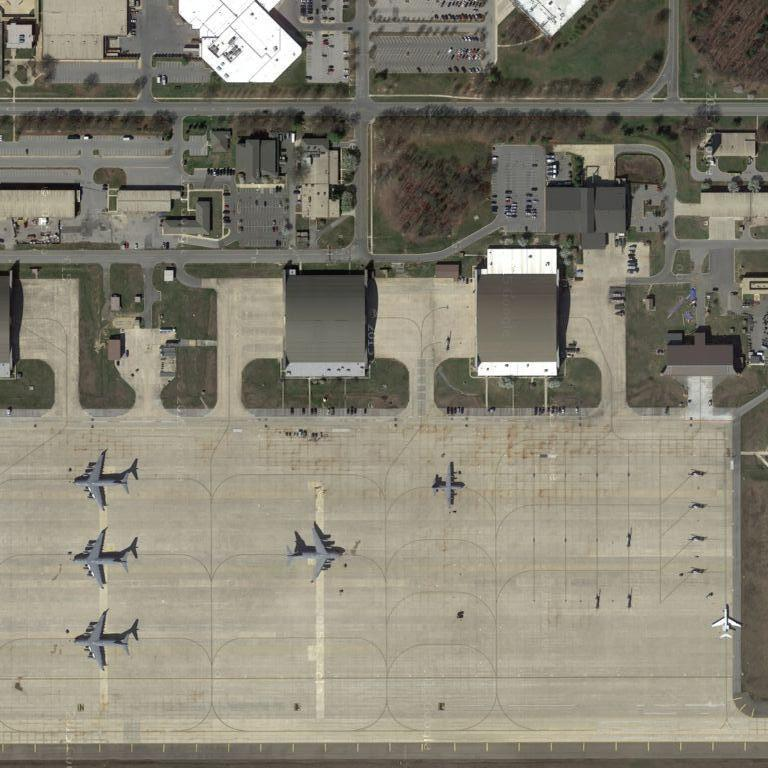C-130: (429, 460, 466, 509)
C-17: (69, 610, 136, 673), (282, 523, 348, 584), (66, 527, 132, 587), (70, 448, 132, 511)
